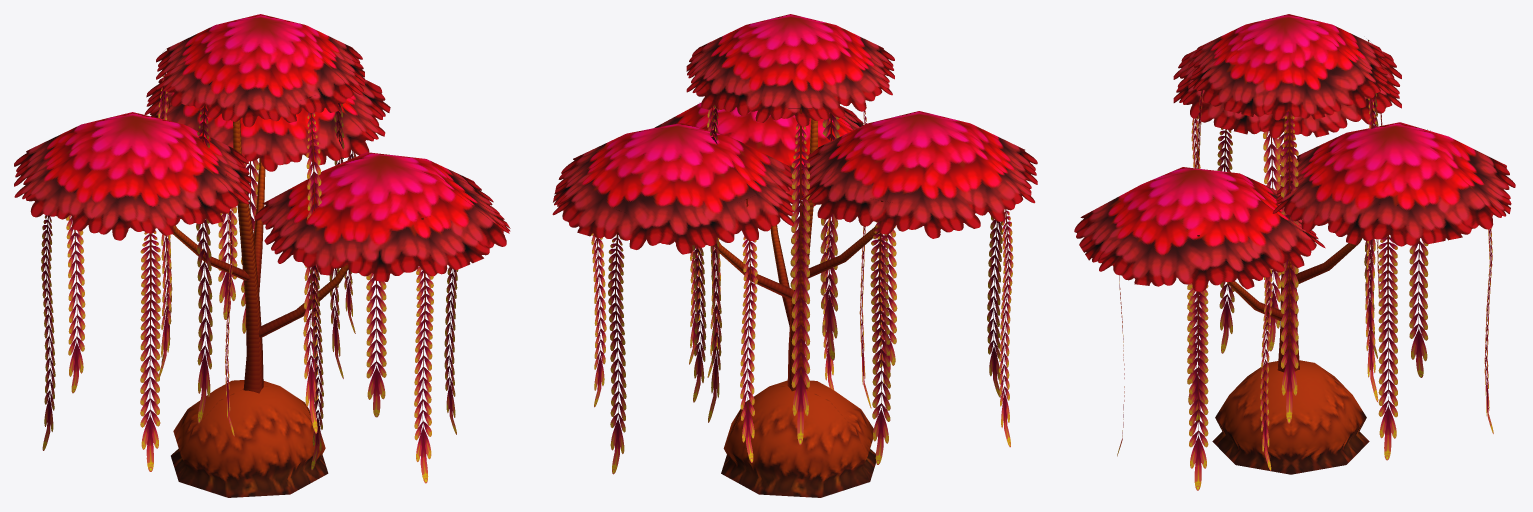
Rendered from Red_Tree_07c.FBX.
3 views of the same model, side by side, from view 1: azimuth 30°, elevation 25°; view 2: azimuth 150°, elevation 25°; view 3: azimuth 270°, elevation 25° (orthographic). The views are drawn at different scales.
Visible parts, largest first — view 1: Red_Tree_07c; view 2: Red_Tree_07c; view 3: Red_Tree_07c.
Boxes of the visible parts, x1,y1,x2,y2 form: Red_Tree_07c: [14, 14, 510, 497]; Red_Tree_07c: [552, 14, 1037, 497]; Red_Tree_07c: [1074, 14, 1515, 490].
Bounding box in the file's own units: 303 × 292 × 279.
